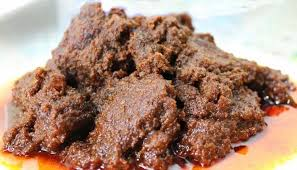rendang: (2, 2, 297, 168)
